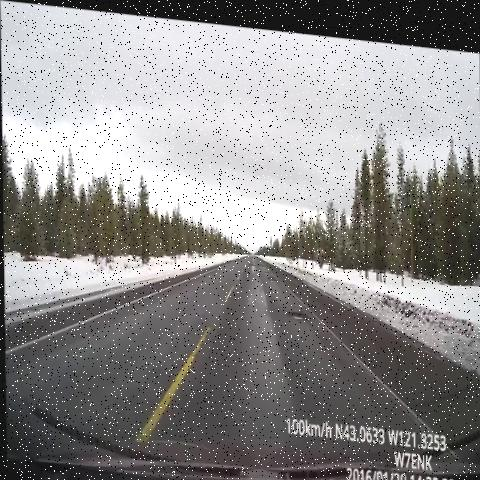pothole: (284, 293, 313, 324), (264, 259, 280, 289), (244, 251, 265, 270)
